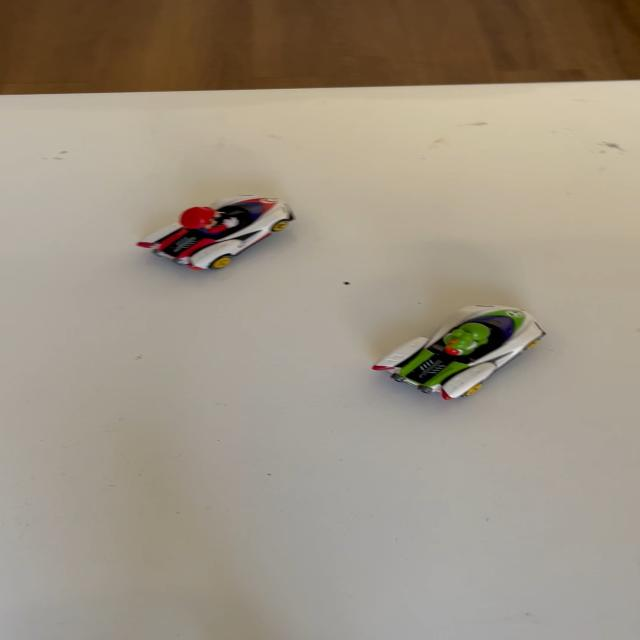mario: (123, 196, 311, 280)
yoshi: (355, 304, 563, 412)
